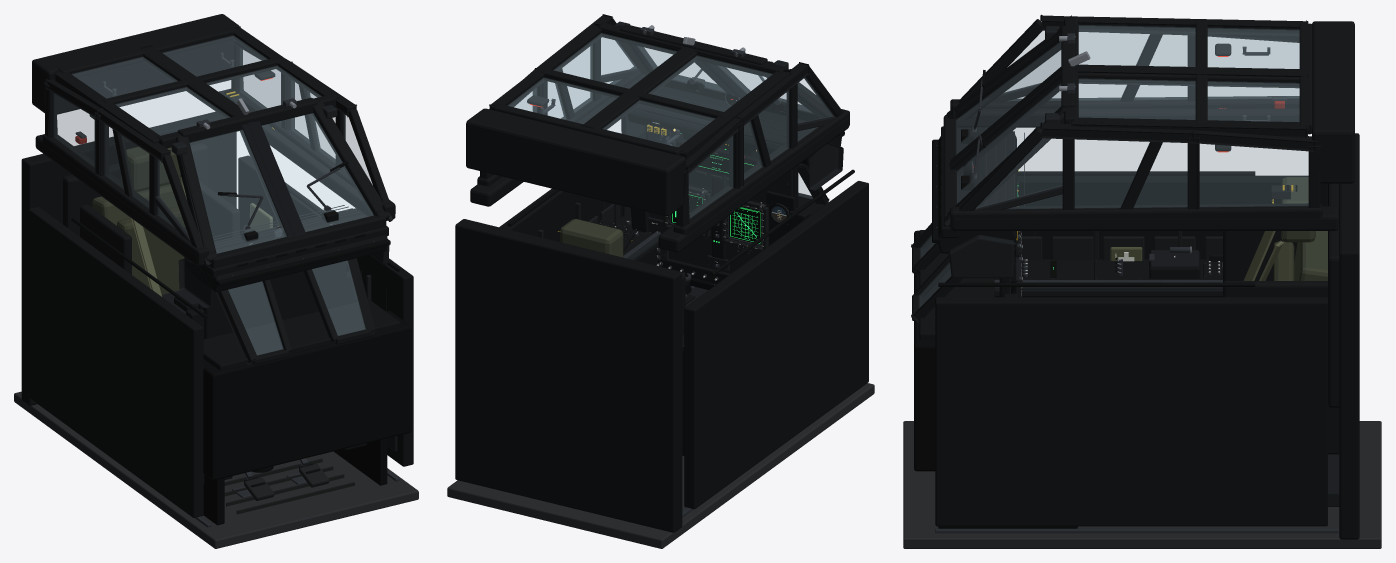
The model's file is ah64d_cockpit.glb.
The picture shows the model from 3 angles, left to right: view 1: azimuth 30°, elevation 25°; view 2: azimuth 150°, elevation 25°; view 3: azimuth 270°, elevation 25°; orthographic projection. The views are drawn at different scales.
Parts seen in each view (by area): view 1: COCKPIT_SHELL, CANOPY_FRAME, CANOPY_GLASS, SEAT, GLARESHIELD, INSTRUMENT_PANEL, CANOPY_DETAILS, PEDALS, DETAILS; view 2: COCKPIT_SHELL, CANOPY_FRAME, CANOPY_GLASS, INSTRUMENT_PANEL, GLARESHIELD, PANEL_HARDWARE, SEAT, STANDBY_INSTRUMENTS, CANOPY_DETAILS, MPD_SCREEN_R, CONSOLE_L; view 3: COCKPIT_SHELL, CANOPY_FRAME, CANOPY_GLASS, SEAT, CONSOLE_R, GLARESHIELD, CANOPY_DETAILS, DETAILS, PANEL_HARDWARE.
Part boxes in pixels (x1,y1,x2,y2): COCKPIT_SHELL: (14, 14, 418, 548); CANOPY_FRAME: (42, 26, 395, 364); CANOPY_GLASS: (54, 36, 373, 354); SEAT: (80, 146, 239, 296); GLARESHIELD: (178, 205, 390, 308); INSTRUMENT_PANEL: (186, 261, 356, 339); CANOPY_DETAILS: (75, 52, 348, 242); PEDALS: (232, 458, 329, 500); DETAILS: (89, 70, 386, 311); COCKPIT_SHELL: (447, 74, 874, 548); CANOPY_FRAME: (477, 14, 849, 235); CANOPY_GLASS: (508, 33, 832, 217); INSTRUMENT_PANEL: (631, 109, 810, 286); GLARESHIELD: (621, 86, 844, 190); PANEL_HARDWARE: (663, 93, 769, 252); SEAT: (560, 219, 685, 335); STANDBY_INSTRUMENTS: (766, 191, 795, 244); CANOPY_DETAILS: (541, 25, 791, 144); MPD_SCREEN_R: (730, 206, 761, 243); CONSOLE_L: (615, 216, 660, 260); COCKPIT_SHELL: (903, 21, 1381, 548); CANOPY_FRAME: (911, 14, 1322, 323); CANOPY_GLASS: (919, 25, 1308, 307); SEAT: (1223, 177, 1339, 454); CONSOLE_R: (994, 246, 1222, 296); GLARESHIELD: (932, 126, 1024, 278); CANOPY_DETAILS: (961, 33, 1297, 199); DETAILS: (1034, 43, 1231, 261); PANEL_HARDWARE: (963, 161, 1022, 297).
Bounding box in the file's own units: 1.12 × 1.8 × 1.78.
